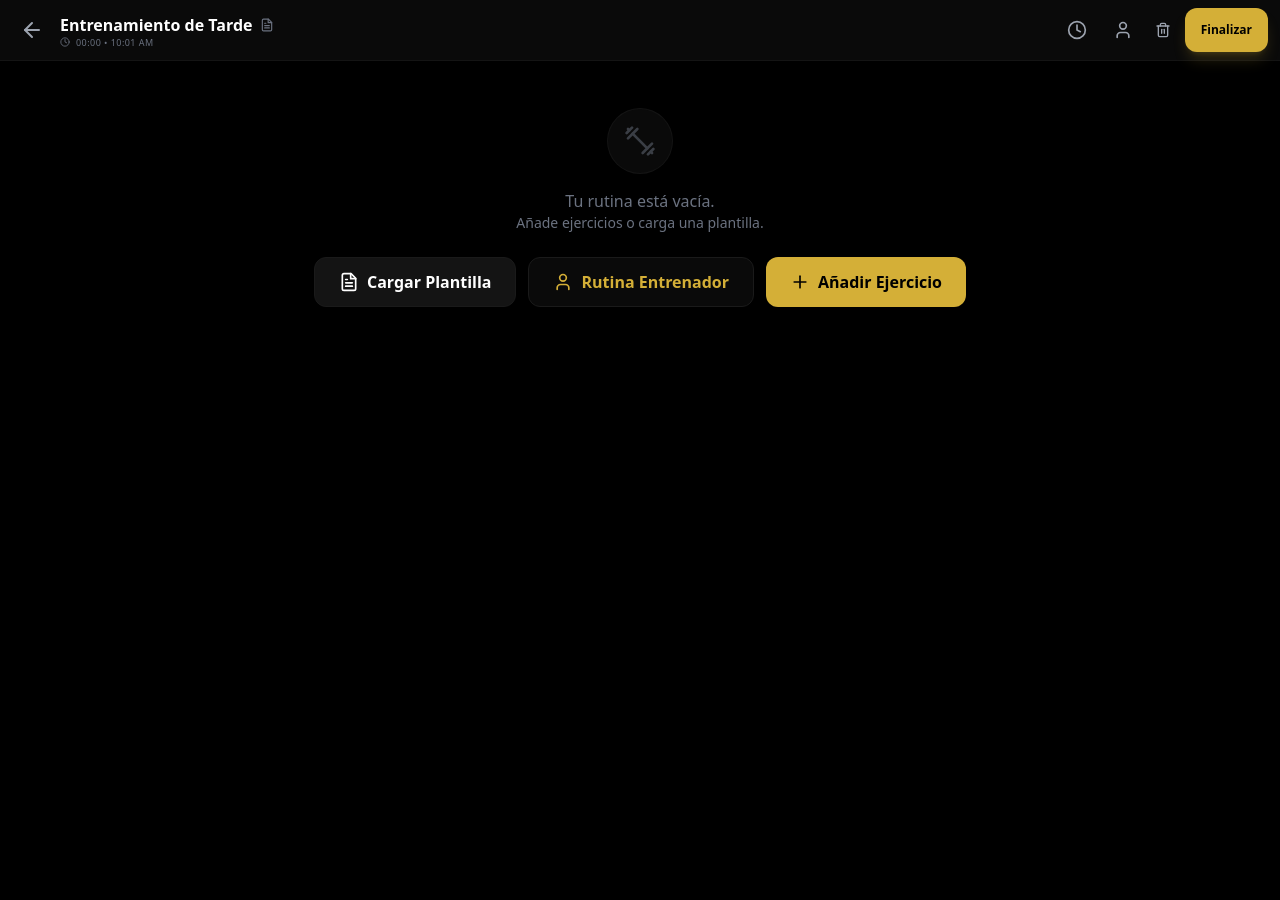
Test: WorkoutEditor › can remove an exercise from a Superset
Setup: Add Superset (Block uuid-0)
Click the button with test id "btn-add-block". click: [866, 282]
box: [766,257,966,307]
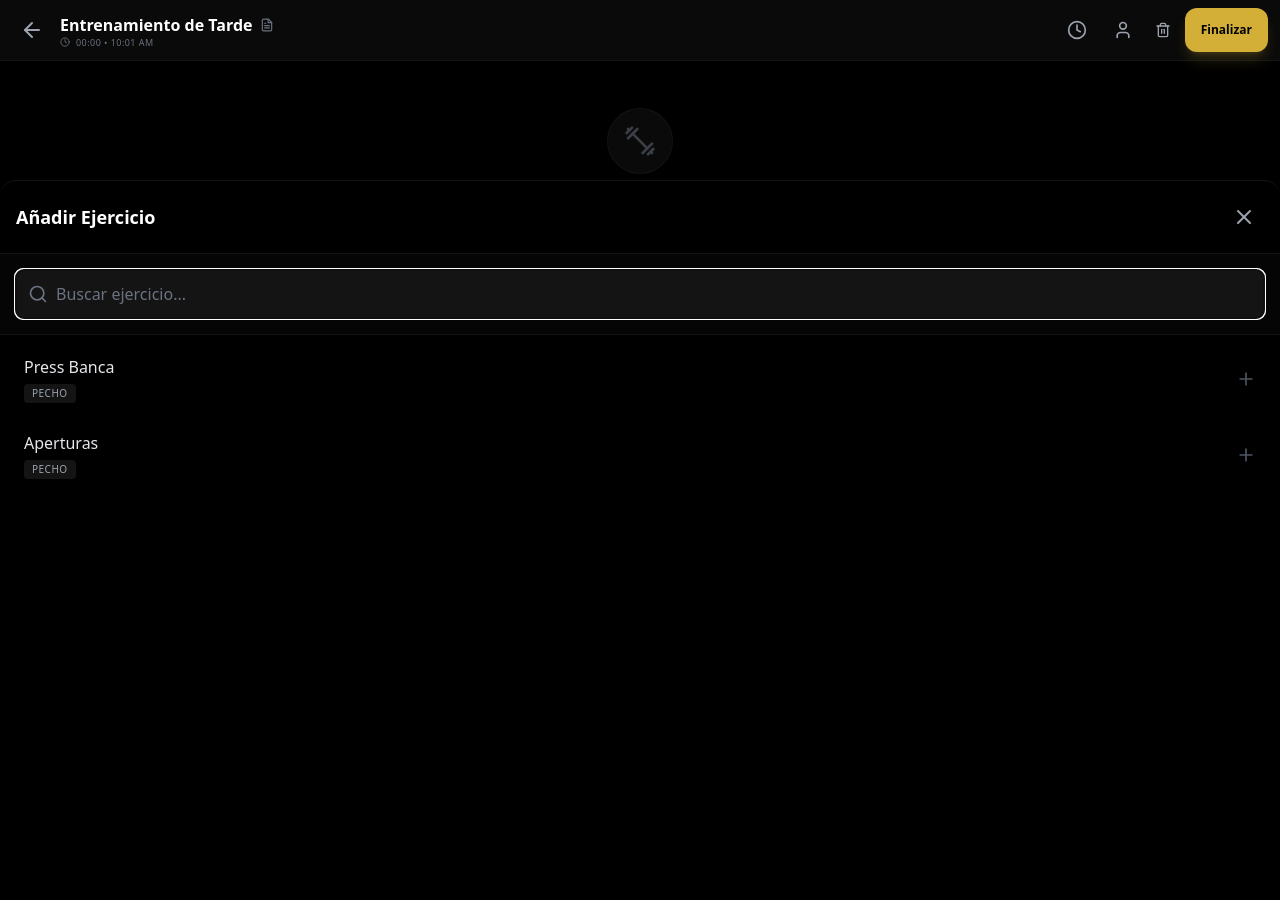
Click the button with test id "exercise-item-ex-1". click: [69, 367]
box: [8,343,1272,415]
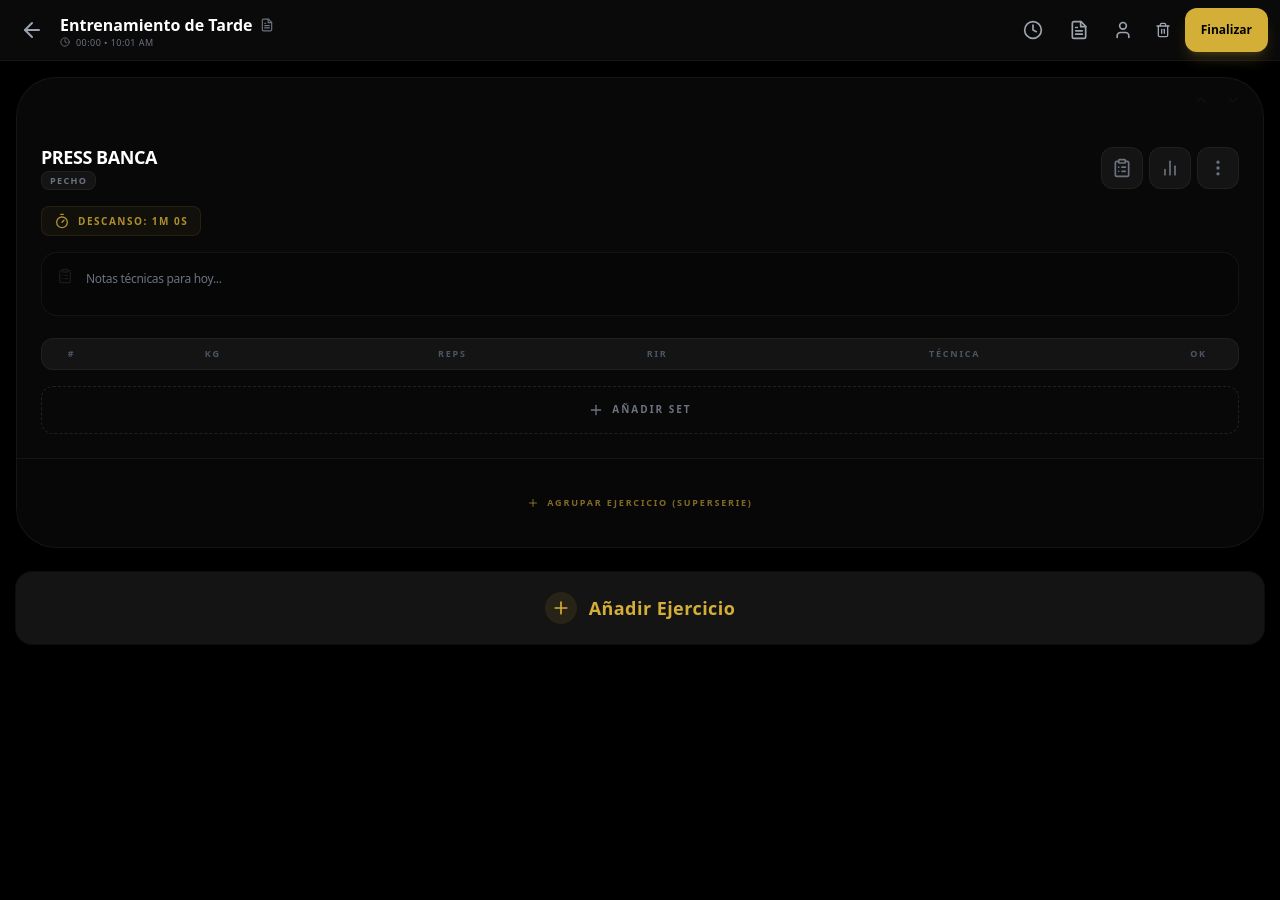
Click the button with test id "btn-add-exercise-to-block-uuid-0". click: [640, 502]
box: [41,482,1239,522]
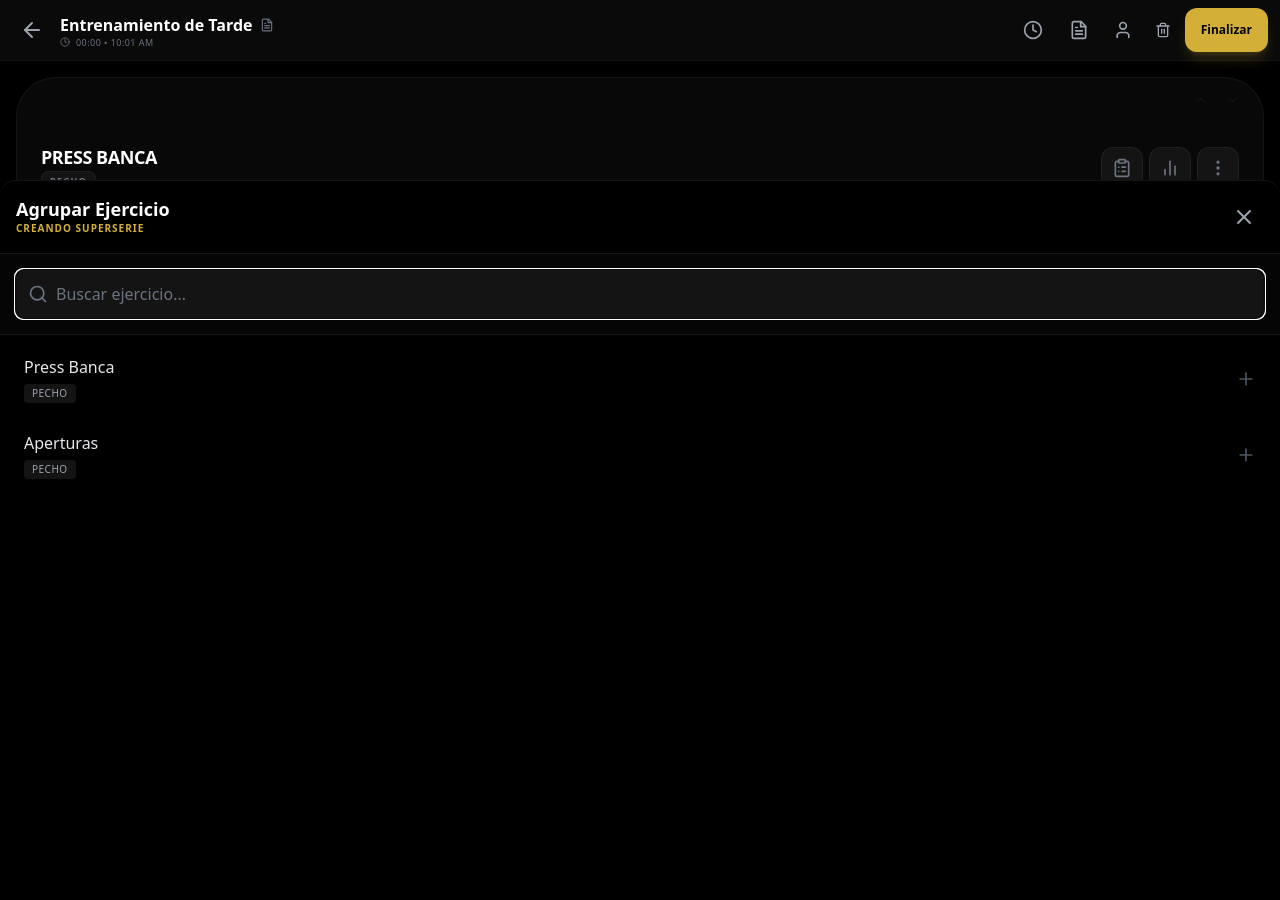
Click the button with test id "exercise-item-ex-2". click: [61, 443]
box: [8,419,1272,491]
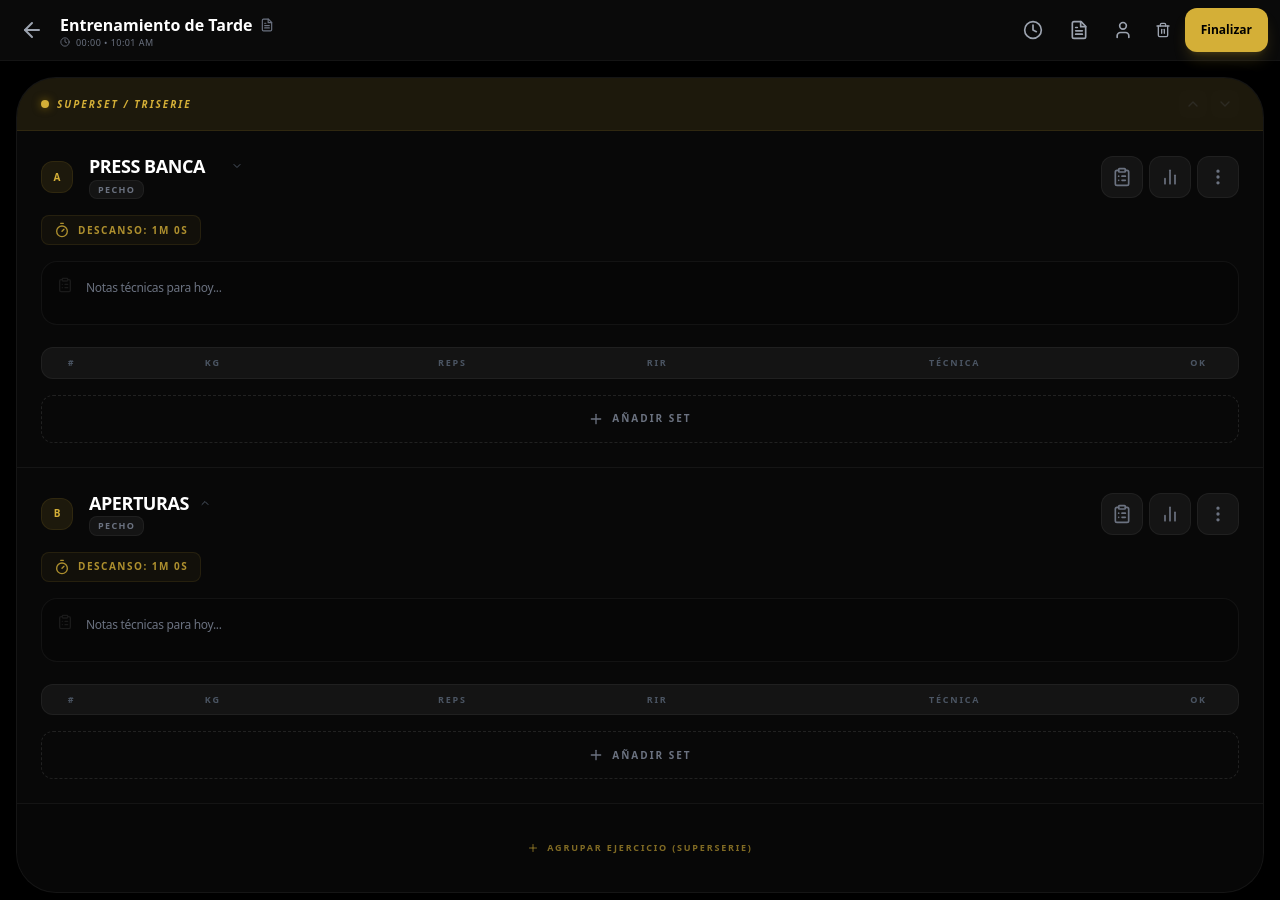
Result: the heading "Aperturas" is shown at [89,492,189,514]
Open Kebab Menu for the second exercise (index 1) in block uuid-0
Click the button with test id "exercise-kebab-menu-uuid-0-1". click: [1218, 514]
box: [1197,492,1239,534]
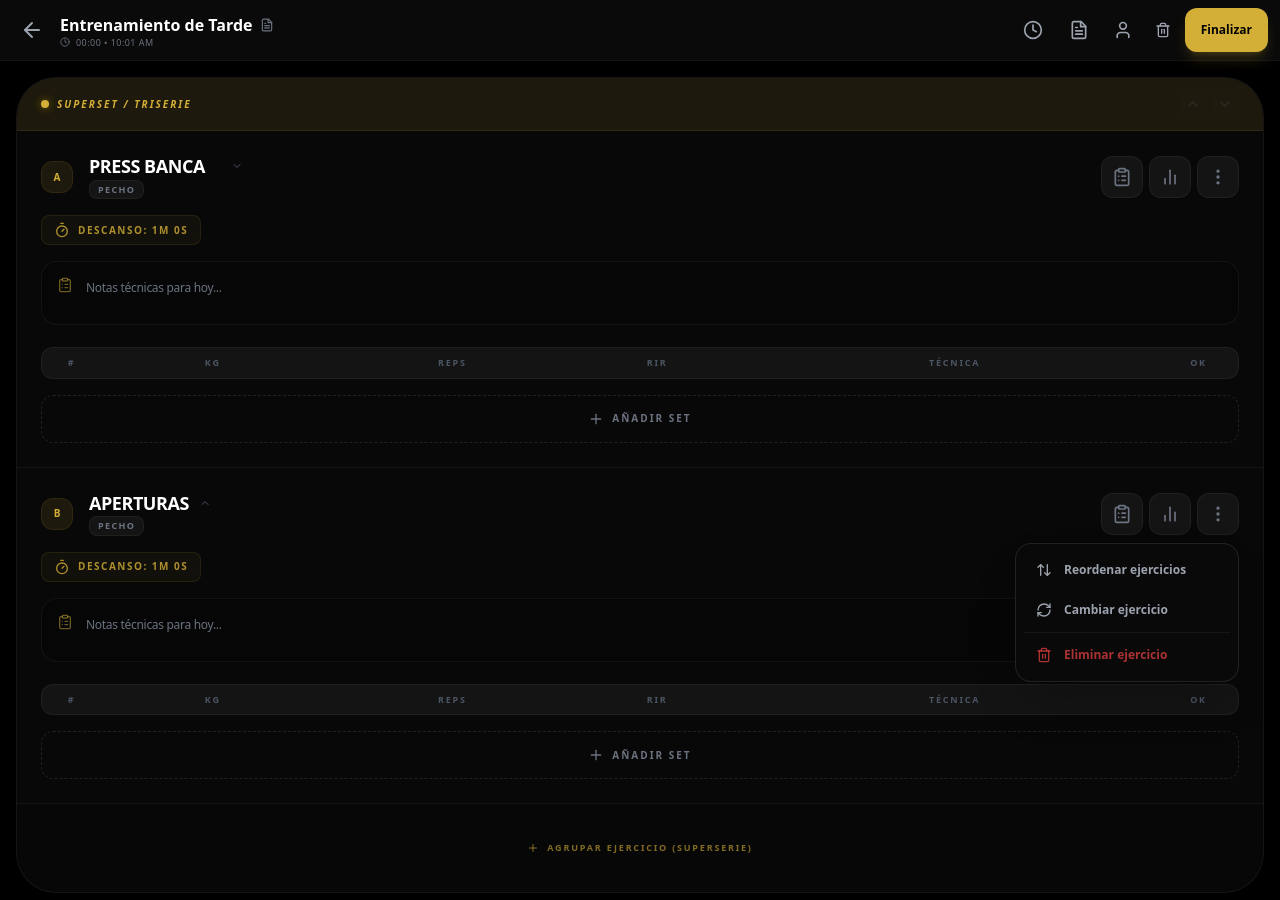
Remove 'Aperturas' (Position B)
Click the menu item "Eliminar ejercicio". click: [1127, 654]
box: [1024,636,1230,672]
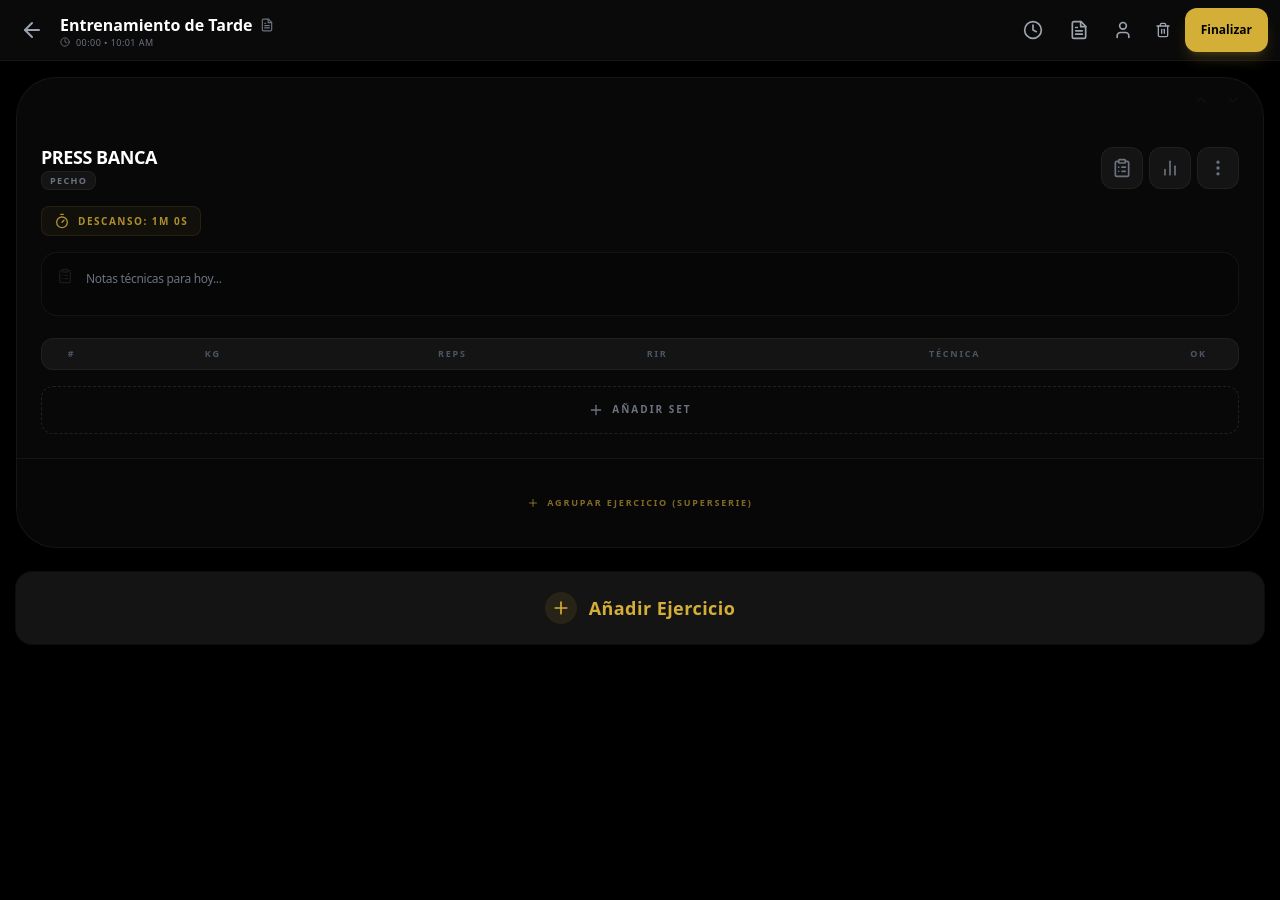
Result: the heading "Press Banca" is shown at [41,146,157,168]
Result: no headings "Aperturas" are shown
